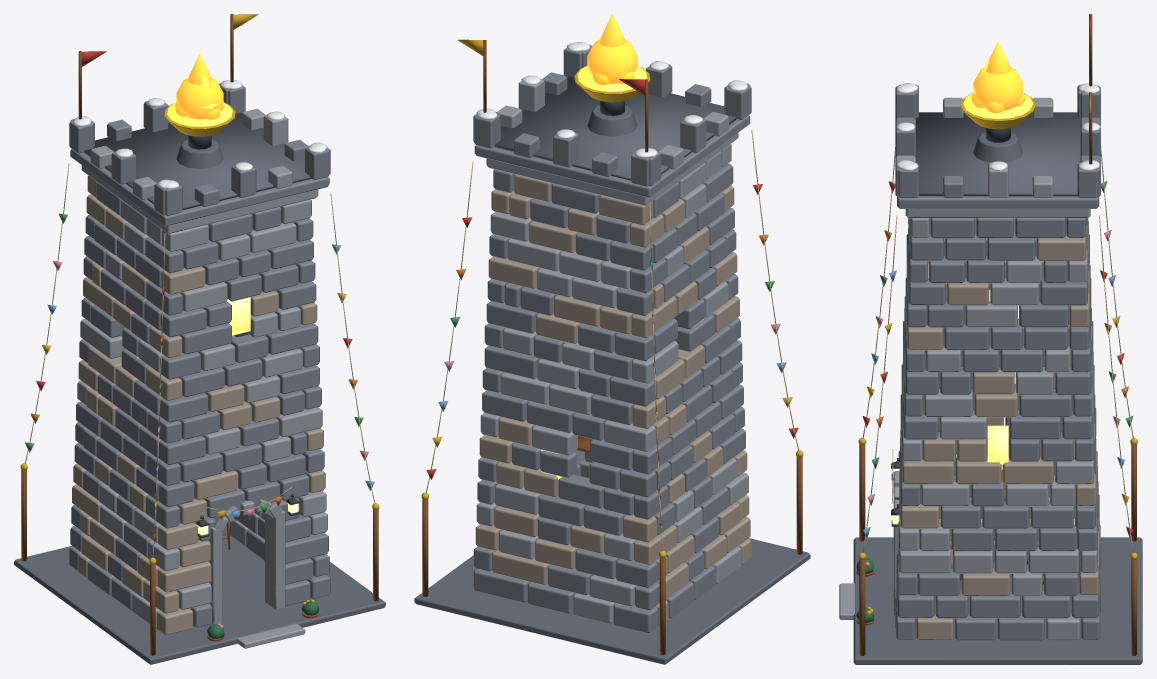
The model's file is beacon.glb.
3 renders of one model, left to right at view 1: azimuth 30°, elevation 25°; view 2: azimuth 150°, elevation 25°; view 3: azimuth 270°, elevation 25°, orthographic. The views are drawn at different scales.
Parts seen in each view (by area): view 1: walls, roof, floor, exterior, walls_low; view 2: walls, roof, floor, exterior; view 3: walls, roof, floor, exterior.
Boxes of the visible parts, bbox=[...] form: walls: bbox=[69, 175, 330, 634]; roof: bbox=[24, 14, 375, 557]; floor: bbox=[14, 534, 385, 664]; exterior: bbox=[20, 463, 379, 655]; walls_low: bbox=[71, 519, 328, 623]; walls: bbox=[473, 144, 751, 632]; roof: bbox=[426, 14, 798, 550]; floor: bbox=[414, 538, 810, 664]; exterior: bbox=[421, 450, 803, 654]; walls: bbox=[891, 218, 1100, 640]; roof: bbox=[862, 14, 1133, 552]; floor: bbox=[839, 537, 1142, 664]; exterior: bbox=[856, 437, 1137, 655].
Bounding box in the file's own units: 5 × 10.74 × 5.25.
